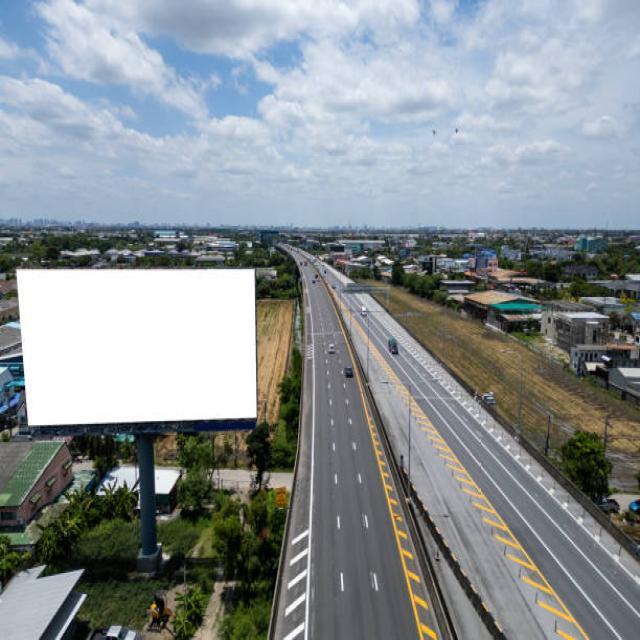Billboard_LHS: (6, 254, 270, 452)
Roadcorner: (434, 380, 639, 592), (353, 354, 442, 639), (285, 306, 320, 639)
Roadlane: (406, 378, 625, 635), (452, 415, 635, 615), (338, 377, 393, 595), (325, 373, 350, 595)
